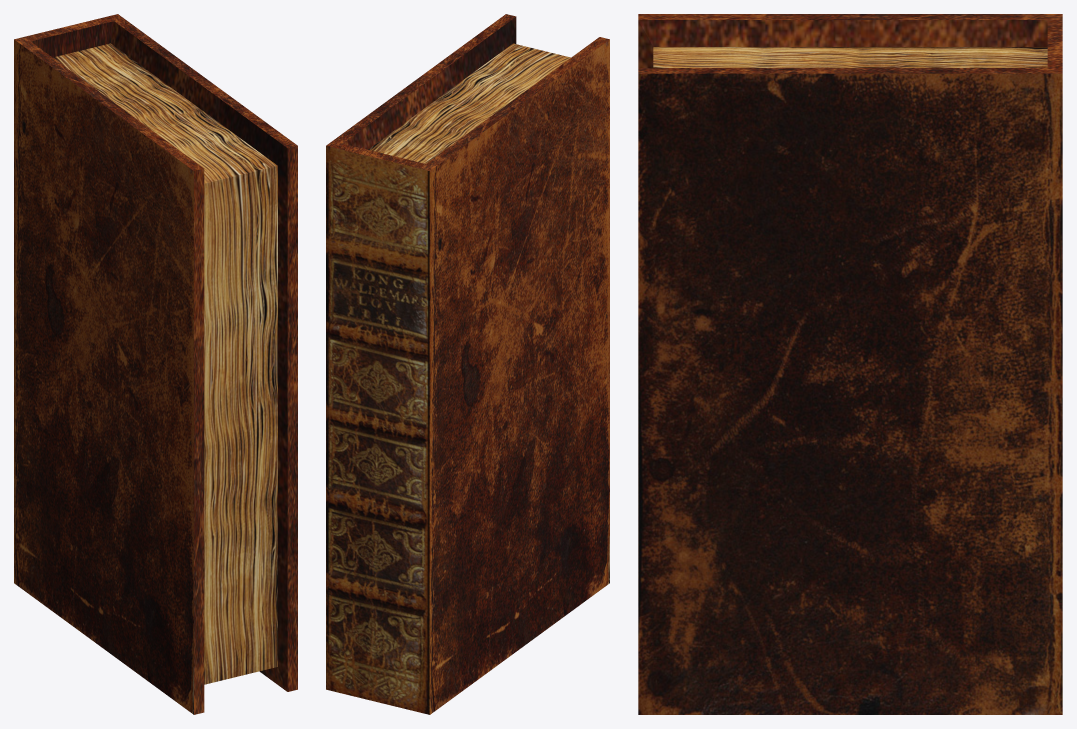
The model's file is bookOne.glb.
3 renders of one model, left to right at view 1: azimuth 30°, elevation 25°; view 2: azimuth 150°, elevation 25°; view 3: azimuth 270°, elevation 25°, orthographic. The views are drawn at different scales.
Parts seen in each view (by area): view 1: Cube; view 2: Cube; view 3: Cube.
Part boxes in pixels (x1,y1,x2,y2): Cube: [14, 14, 297, 714]; Cube: [326, 14, 609, 714]; Cube: [638, 14, 1062, 714].
Bounding box in the file's own units: 4 × 20 × 12.
Materials: 1 (1 with a texture image).
